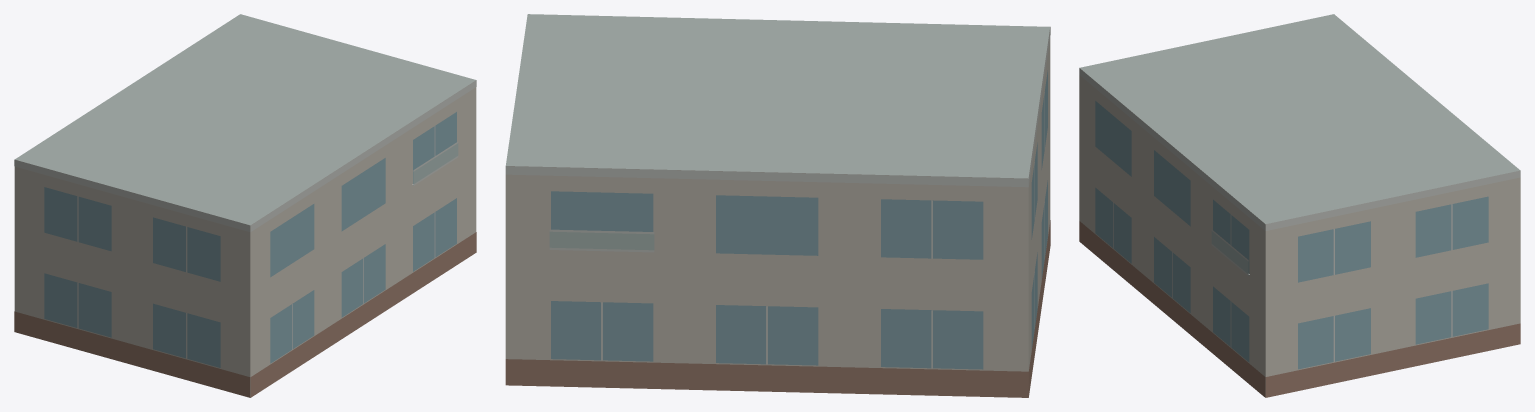
The model's file is survey-upis-32697203.glb.
The picture shows the model from 3 angles, left to right: view 1: azimuth 30°, elevation 25°; view 2: azimuth 150°, elevation 25°; view 3: azimuth 270°, elevation 25°; orthographic projection. The views are drawn at different scales.
Visible parts, largest first — view 1: survey-upis-32697203.tmp; view 2: survey-upis-32697203.tmp; view 3: survey-upis-32697203.tmp.
Part boxes in pixels (bbox=[...]): survey-upis-32697203.tmp: bbox=[14, 14, 476, 397]; survey-upis-32697203.tmp: bbox=[505, 14, 1050, 397]; survey-upis-32697203.tmp: bbox=[1079, 14, 1520, 397].
Bounding box in the file's own units: 15.84 × 6.1 × 14.06.
